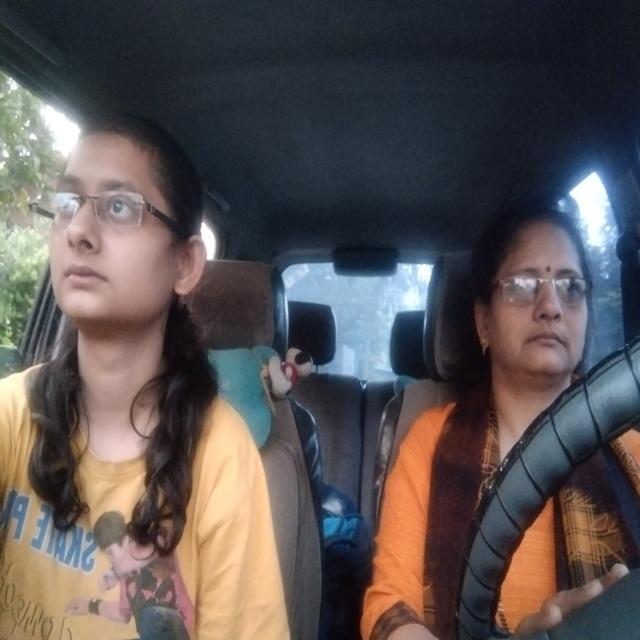person: (26, 110, 215, 357), (473, 178, 604, 400)
